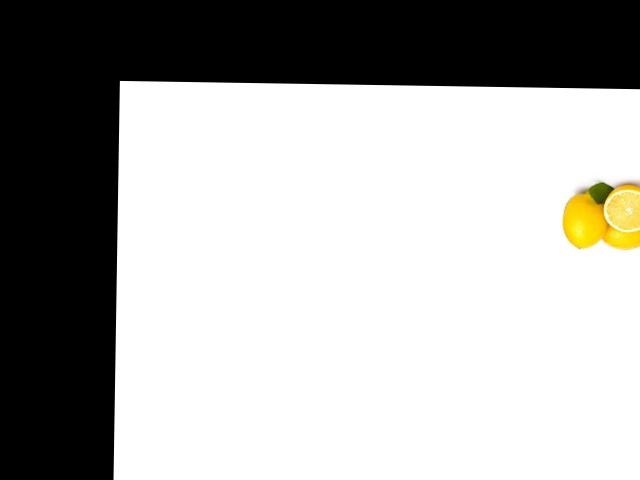lemon: (604, 216, 640, 253)
